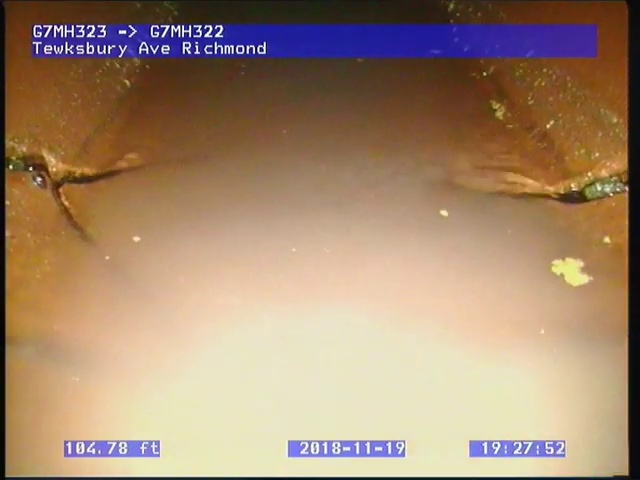crack: (6, 139, 148, 254), (489, 168, 627, 206)
